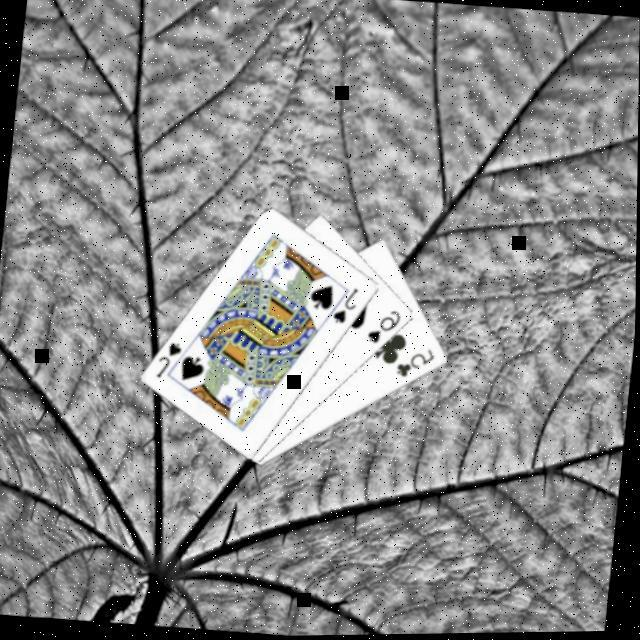5C: (394, 343, 441, 384)
6S: (366, 304, 408, 347)
JS: (155, 337, 190, 381), (332, 282, 365, 326)
